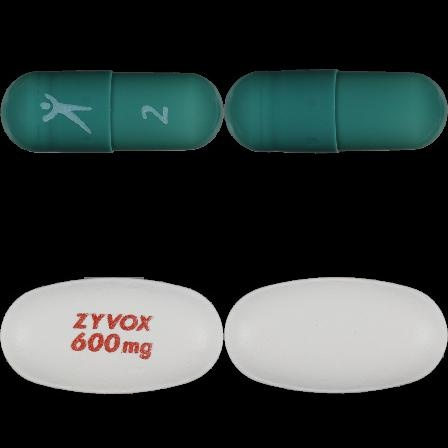55154-3935: (0, 0, 224, 224)
